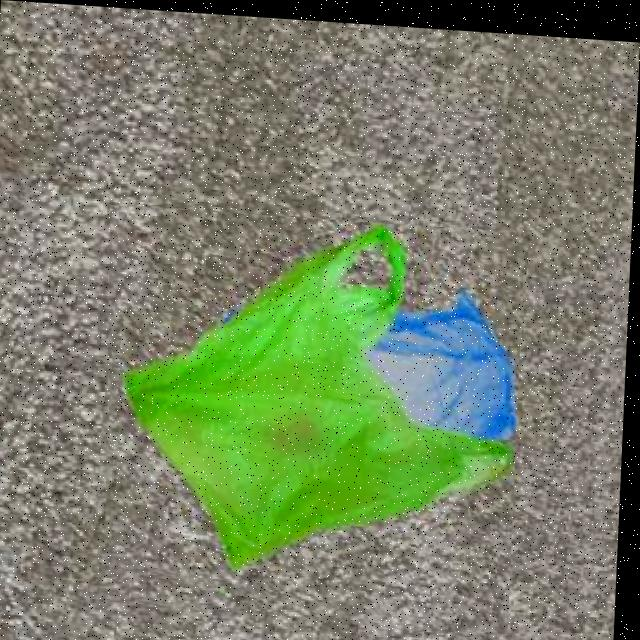plasticcover: (96, 203, 526, 629)
